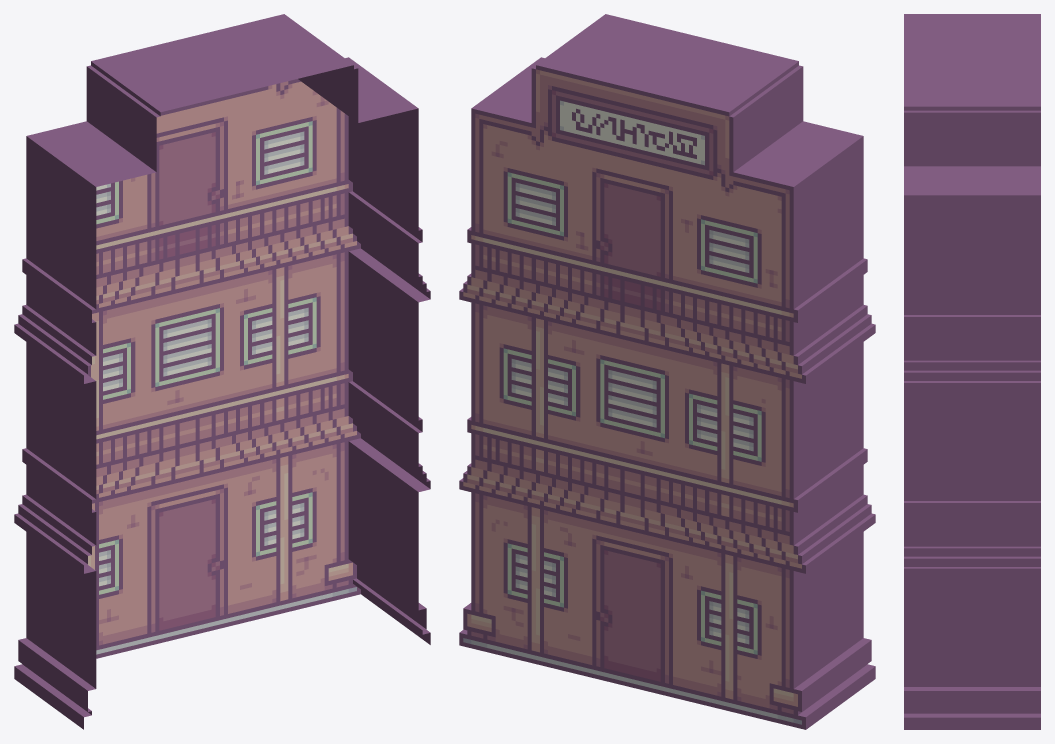
Rendered from Calico_Buildings_1.fbx.
3 views of the same model, side by side, from view 1: azimuth 30°, elevation 25°; view 2: azimuth 150°, elevation 25°; view 3: azimuth 270°, elevation 25° (orthographic). The views are drawn at different scales.
Visible parts, largest first — view 1: Calico_Building_1; view 2: Calico_Building_1; view 3: Calico_Building_1.
Boxes of the visible parts, x1,y1,x2,y2 form: Calico_Building_1: (14,14,430,729); Calico_Building_1: (459,14,875,729); Calico_Building_1: (904,14,1040,729).
Bounding box in the file's own units: 188 × 538 × 888.
